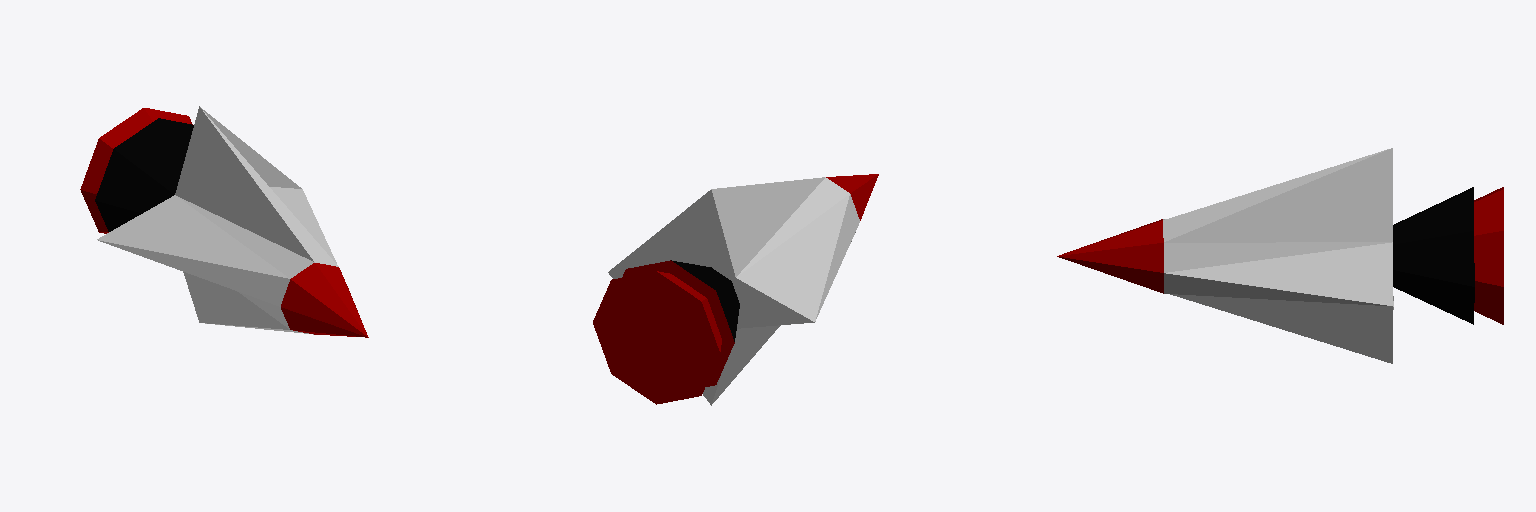
Rendered from Rocket.obj.
3 renders of one model, left to right at view 1: azimuth 30°, elevation 25°; view 2: azimuth 150°, elevation 25°; view 3: azimuth 270°, elevation 25°, orthographic.
Visible parts, largest first — view 1: Mesh; view 2: Mesh; view 3: Mesh.
Boxes of the visible parts, <box> form: Mesh: <box>80,106,368,337</box>; Mesh: <box>593,174,878,405</box>; Mesh: <box>1057,148,1503,363</box>.
Bounding box in the file's own units: 1.74 × 1.74 × 3.26.